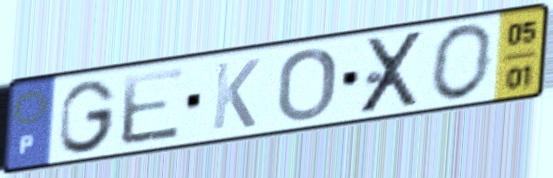E: (118, 64, 188, 149)
G: (56, 77, 120, 157)
K: (208, 55, 264, 133)
O: (428, 20, 497, 104), (274, 45, 340, 125)
X: (355, 26, 430, 119)
